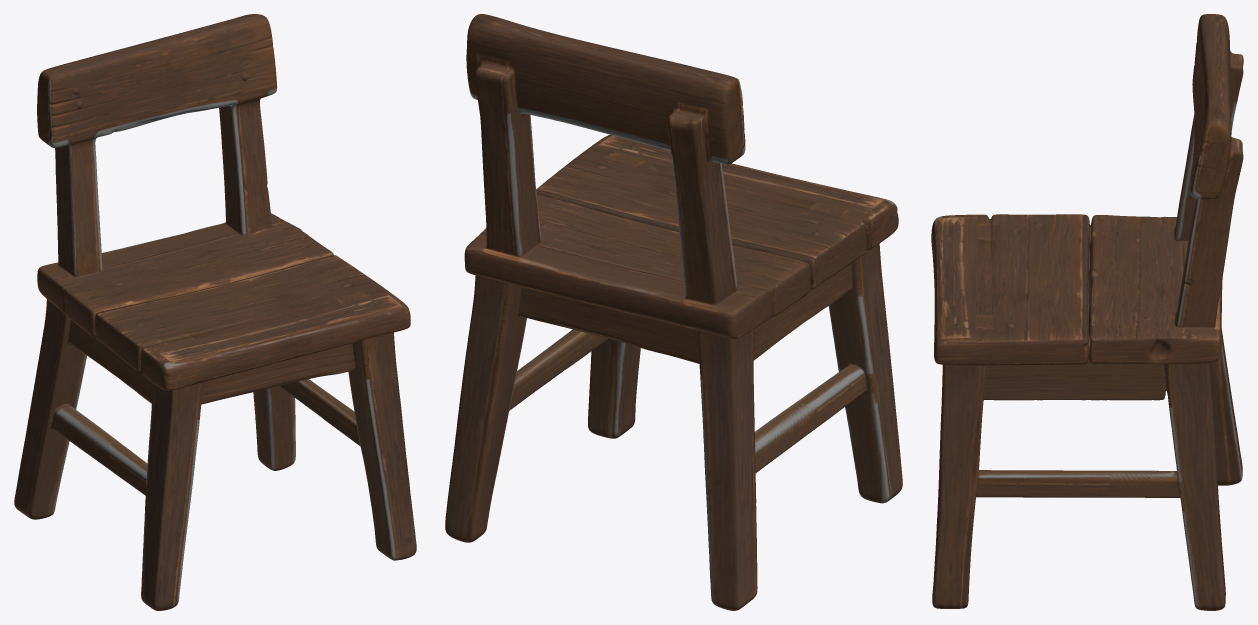
Rendered from tripo_convert_c6744c30-bd50-4b70-9f8e-a02c2ebbed7e.fbx.
3 views of the same model, side by side, from view 1: azimuth 30°, elevation 25°; view 2: azimuth 150°, elevation 25°; view 3: azimuth 270°, elevation 25° (orthographic). The views are drawn at different scales.
Parts seen in each view (by area): view 1: tripo_node_c6744c30; view 2: tripo_node_c6744c30; view 3: tripo_node_c6744c30.
Part boxes in pixels (x1,y1,x2,y2): tripo_node_c6744c30: [14, 14, 416, 610]; tripo_node_c6744c30: [445, 14, 902, 610]; tripo_node_c6744c30: [931, 14, 1243, 610].
Size of the model in its own units: 0.602 by 1 by 0.586.
Materials: 1 (1 with a texture image).
